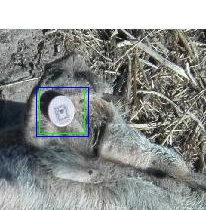text: (39, 87, 84, 133)
